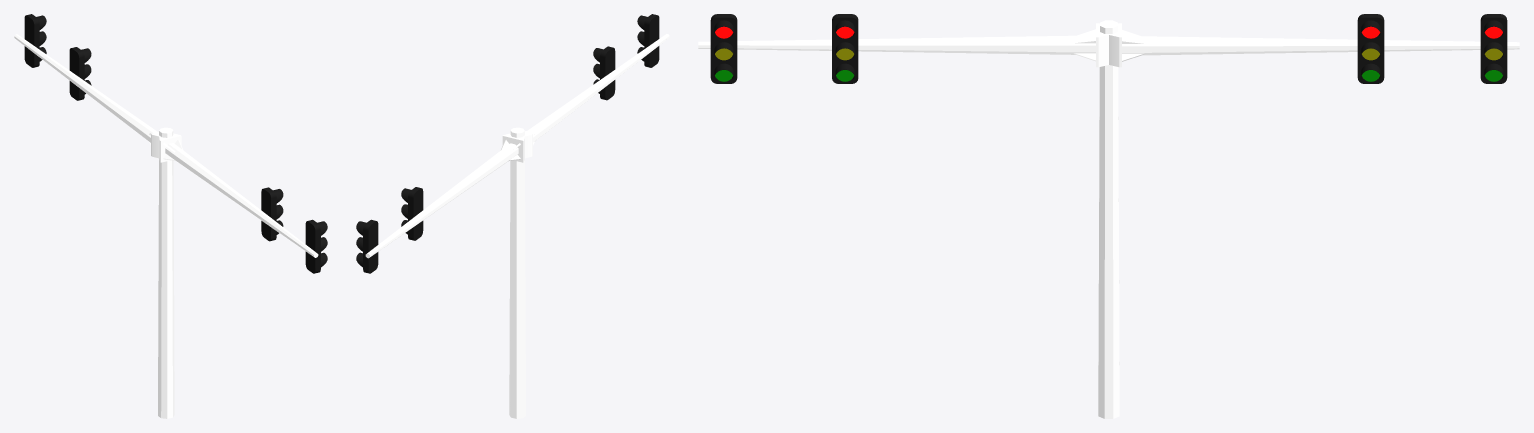
3 renders of one model, left to right at view 1: azimuth 30°, elevation 25°; view 2: azimuth 150°, elevation 25°; view 3: azimuth 270°, elevation 25°, orthographic. The views are drawn at different scales.
Parts seen in each view (by area): view 1: pCylinder13, polySurface94, polySurface125, polySurface102, polySurface87, polySurface109, polySurface91, polySurface96; view 2: pCylinder13, polySurface125, polySurface94, polySurface87, polySurface102, polySurface91, polySurface109, polySurface119; view 3: pCylinder13, polySurface125, polySurface94, polySurface102, polySurface87, polySurface91, polySurface109.
Part boxes in pixels (x1,y1,x2,y2): pCylinder13: [158, 127, 174, 418]; polySurface94: [163, 139, 318, 257]; polySurface125: [14, 34, 158, 145]; polySurface102: [305, 219, 327, 273]; polySurface87: [24, 14, 46, 67]; polySurface109: [261, 187, 283, 241]; polySurface91: [69, 47, 91, 100]; polySurface96: [159, 133, 181, 162]; pCylinder13: [509, 127, 525, 418]; polySurface125: [365, 140, 520, 258]; polySurface94: [525, 34, 669, 145]; polySurface87: [356, 219, 378, 273]; polySurface102: [637, 14, 659, 67]; polySurface91: [401, 187, 423, 240]; polySurface109: [593, 46, 615, 100]; polySurface119: [502, 133, 524, 162]; pCylinder13: [1098, 20, 1119, 418]; polySurface125: [1122, 30, 1519, 61]; polySurface94: [698, 29, 1095, 61]; polySurface102: [710, 14, 737, 83]; polySurface87: [1480, 14, 1507, 83]; polySurface91: [1357, 14, 1384, 83]; polySurface109: [832, 14, 858, 83].
Bounding box in the file's own units: 0.6842 × 6.71 × 12.4.
